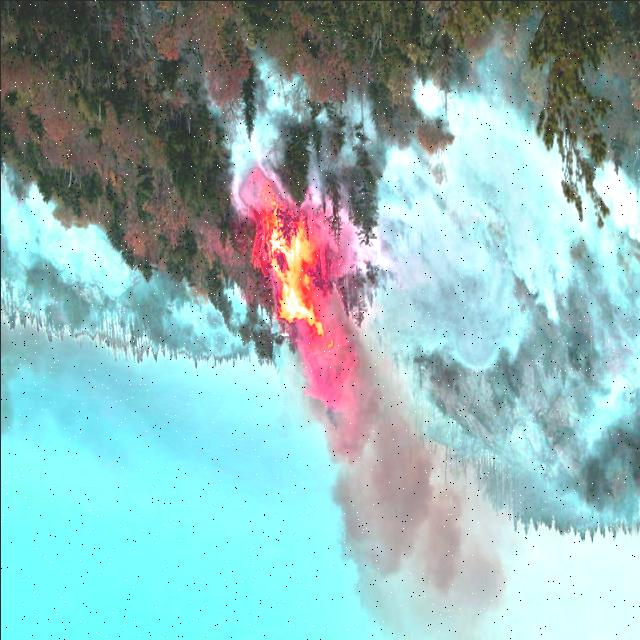api: (272, 211, 322, 356), (318, 319, 356, 414)
asap: (380, 95, 627, 353), (324, 426, 624, 627), (32, 366, 314, 526), (7, 178, 126, 299), (228, 60, 308, 192), (555, 325, 640, 443), (1, 301, 47, 459), (164, 287, 246, 366), (332, 88, 377, 162)
